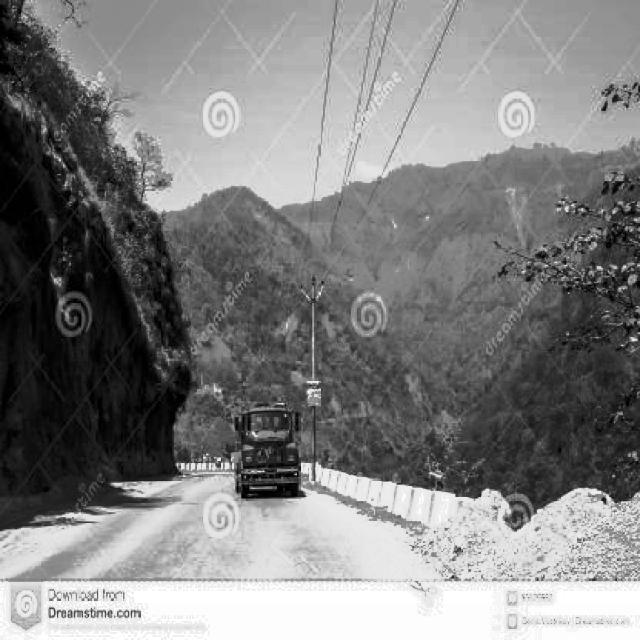HCV: (226, 408, 303, 494)
